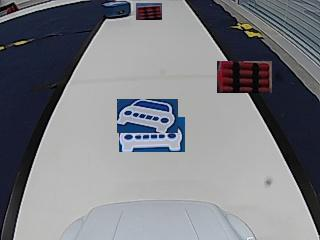prop: (104, 1, 130, 18)
